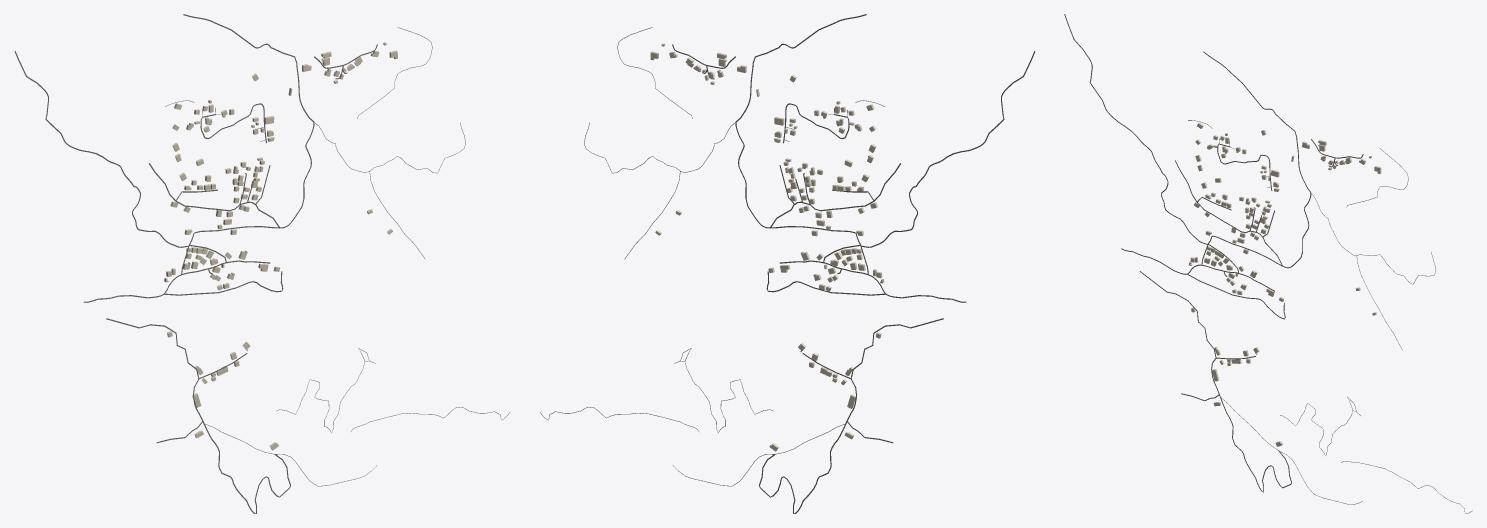
The model's file is historic-palestine-11_22_3527_3168.glb.
The picture shows the model from 3 angles, left to right: view 1: azimuth 30°, elevation 25°; view 2: azimuth 150°, elevation 25°; view 3: azimuth 330°, elevation 25°; orthographic projection. The views are drawn at different scales.
Parts seen in each view (by area): view 1: Road, Road .001; view 2: Road, Road .001; view 3: Road, Road .001.
Boxes of the visible parts, bbox=[...] form: Road: bbox=[14, 14, 314, 247]; Road .001: bbox=[106, 318, 290, 513]; Road: bbox=[735, 14, 1035, 247]; Road .001: bbox=[759, 318, 943, 513]; Road: bbox=[1064, 14, 1311, 268]; Road .001: bbox=[1139, 271, 1291, 492].
Bounding box in the file's own units: 1467 × 1476 × 8.7.
